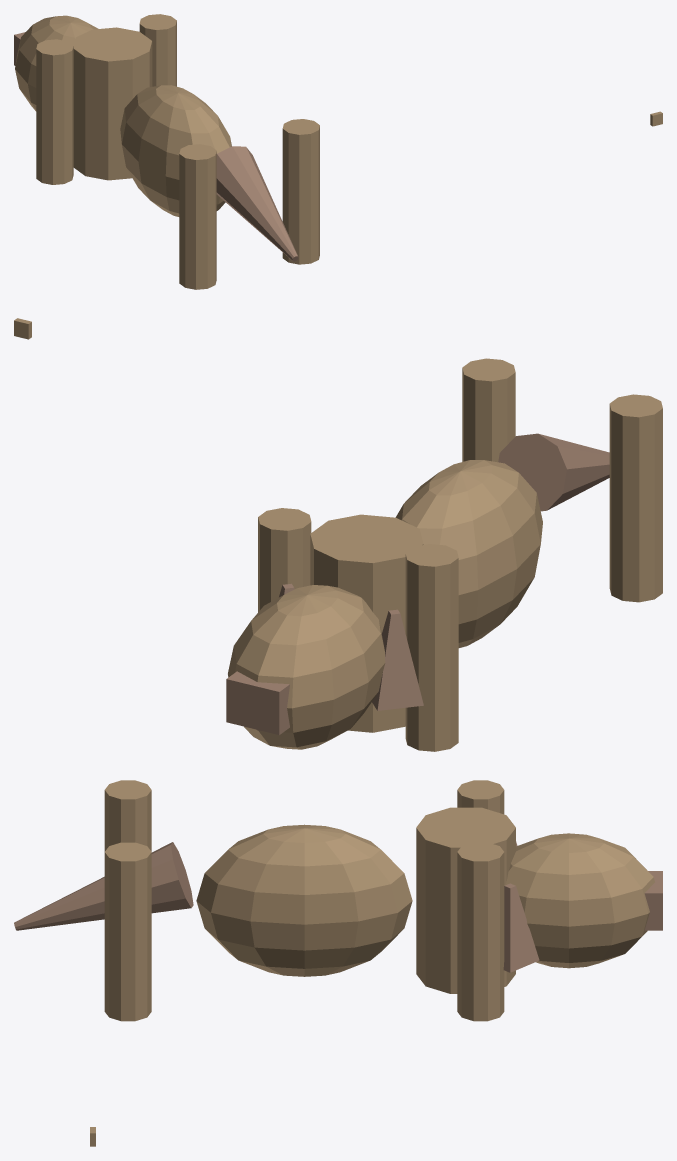
Rendered from animal_argos.glb.
3 views of the same model, one above another, from view 1: azimuth 30°, elevation 25°; view 2: azimuth 150°, elevation 25°; view 3: azimuth 270°, elevation 25° (orthographic). The views are drawn at different scales.
Parts seen in each view (by area): view 1: argos_neck.002, argos_body.002, argos_leg_BL.002, argos_leg_FL.002, argos_leg_BR.002, argos_tail.002, argos_head.002, argos_leg_FR.002; view 2: argos_head.002, argos_body.002, argos_leg_BL.002, argos_leg_FL.002, argos_neck.002, argos_tail.002, argos_leg_BR.002, argos_leg_FR.002, argos_mukon.002, argos_telinga_l.002; view 3: argos_body.002, argos_head.002, argos_neck.002, argos_leg_BR.002, argos_leg_FR.002, argos_tail.002, argos_leg_BL.002, argos_telinga_r.002, argos_leg_FL.002, argos_mukon.002.
Part boxes in pixels (x1,y1,x2,y2): argos_neck.002: (73,27,152,180); argos_body.002: (120,85,231,216); argos_leg_BL.002: (179,144,216,289); argos_leg_FL.002: (36,39,73,184); argos_leg_BR.002: (282,119,319,264); argos_tail.002: (216,146,298,261); argos_head.002: (15,15,98,111); argos_leg_FR.002: (139,14,176,86); argos_head.002: (228,585,385,749); argos_body.002: (395,460,542,647); argos_leg_BL.002: (609,394,662,602); argos_leg_FL.002: (405,544,458,751); argos_neck.002: (310,514,423,732); argos_tail.002: (498,433,609,511); argos_leg_BR.002: (462,358,515,462); argos_leg_FR.002: (258,508,311,612); argos_mukon.002: (226,671,289,734); argos_telinga_l.002: (372,609,423,710); argos_body.002: (196,824,412,976); argos_head.002: (505,833,654,968); argos_neck.002: (416,807,515,993); argos_leg_BR.002: (104,842,151,1021); argos_leg_FR.002: (457,842,504,1021); argos_tail.002: (14,842,193,930); argos_leg_BL.002: (104,780,151,851); argos_telinga_r.002: (503,883,539,972); argos_leg_FL.002: (457,780,504,814); argos_mukon.002: (644,871,662,930).
Size of the model in its own units: 2.25 by 0.6 by 2.21.
